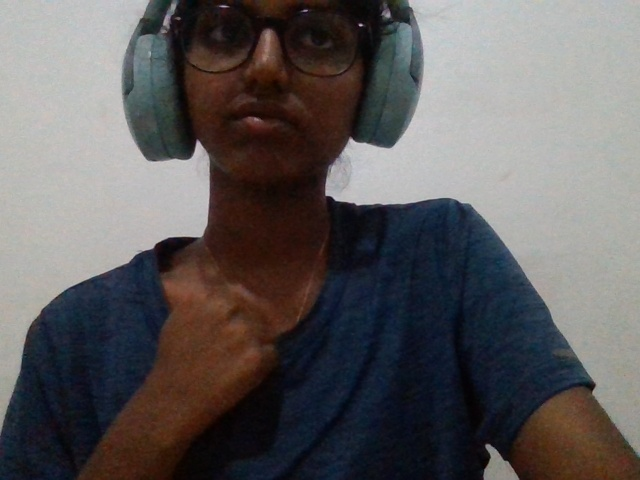Sorry: (132, 275, 314, 455)
